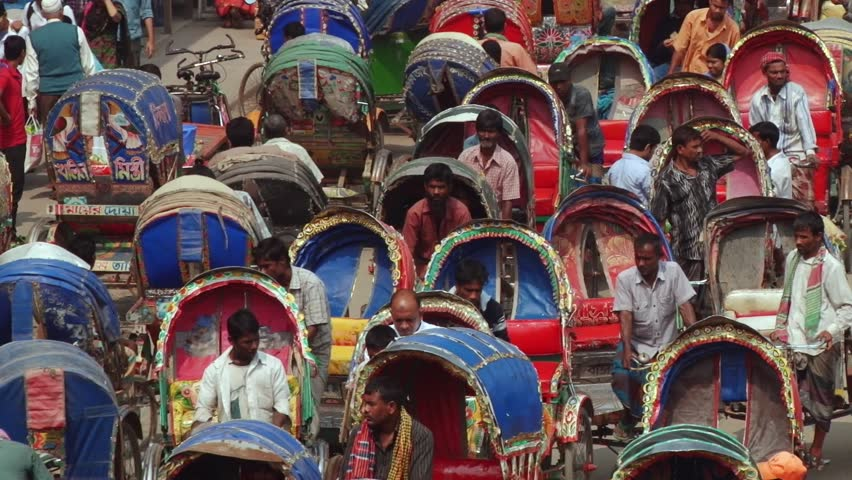Rickshaw: (692, 187, 847, 366), (146, 272, 301, 441), (646, 300, 801, 449), (359, 338, 524, 476), (37, 63, 171, 212), (725, 18, 849, 173), (552, 172, 667, 321), (263, 23, 385, 162), (126, 163, 254, 282), (2, 236, 114, 367), (427, 237, 572, 334), (615, 66, 731, 187), (8, 332, 106, 474), (214, 120, 330, 238), (225, 130, 352, 236), (654, 112, 772, 223), (297, 208, 420, 299), (559, 29, 653, 146), (410, 98, 520, 182), (615, 419, 756, 478), (396, 30, 491, 115), (375, 158, 485, 227), (168, 410, 270, 478)
